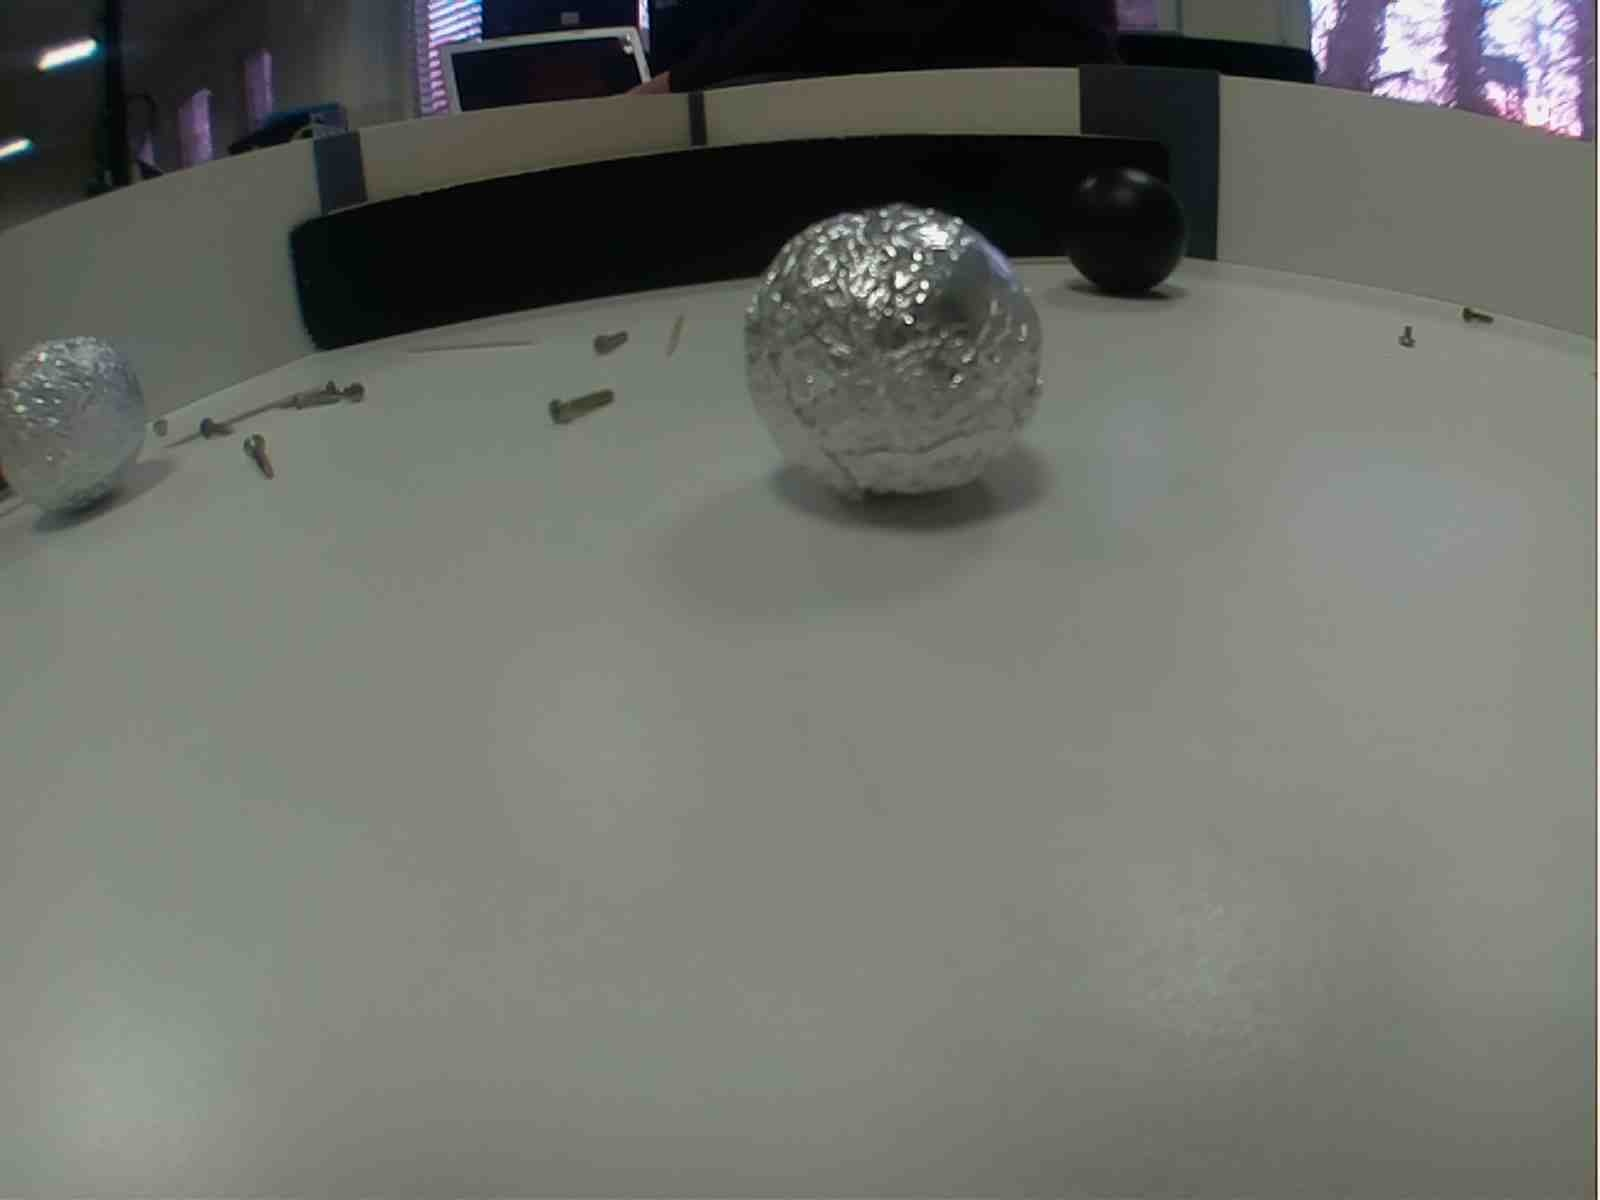bianca: (740, 200, 1044, 505), (1, 332, 149, 517)
nera: (1052, 169, 1202, 303)
